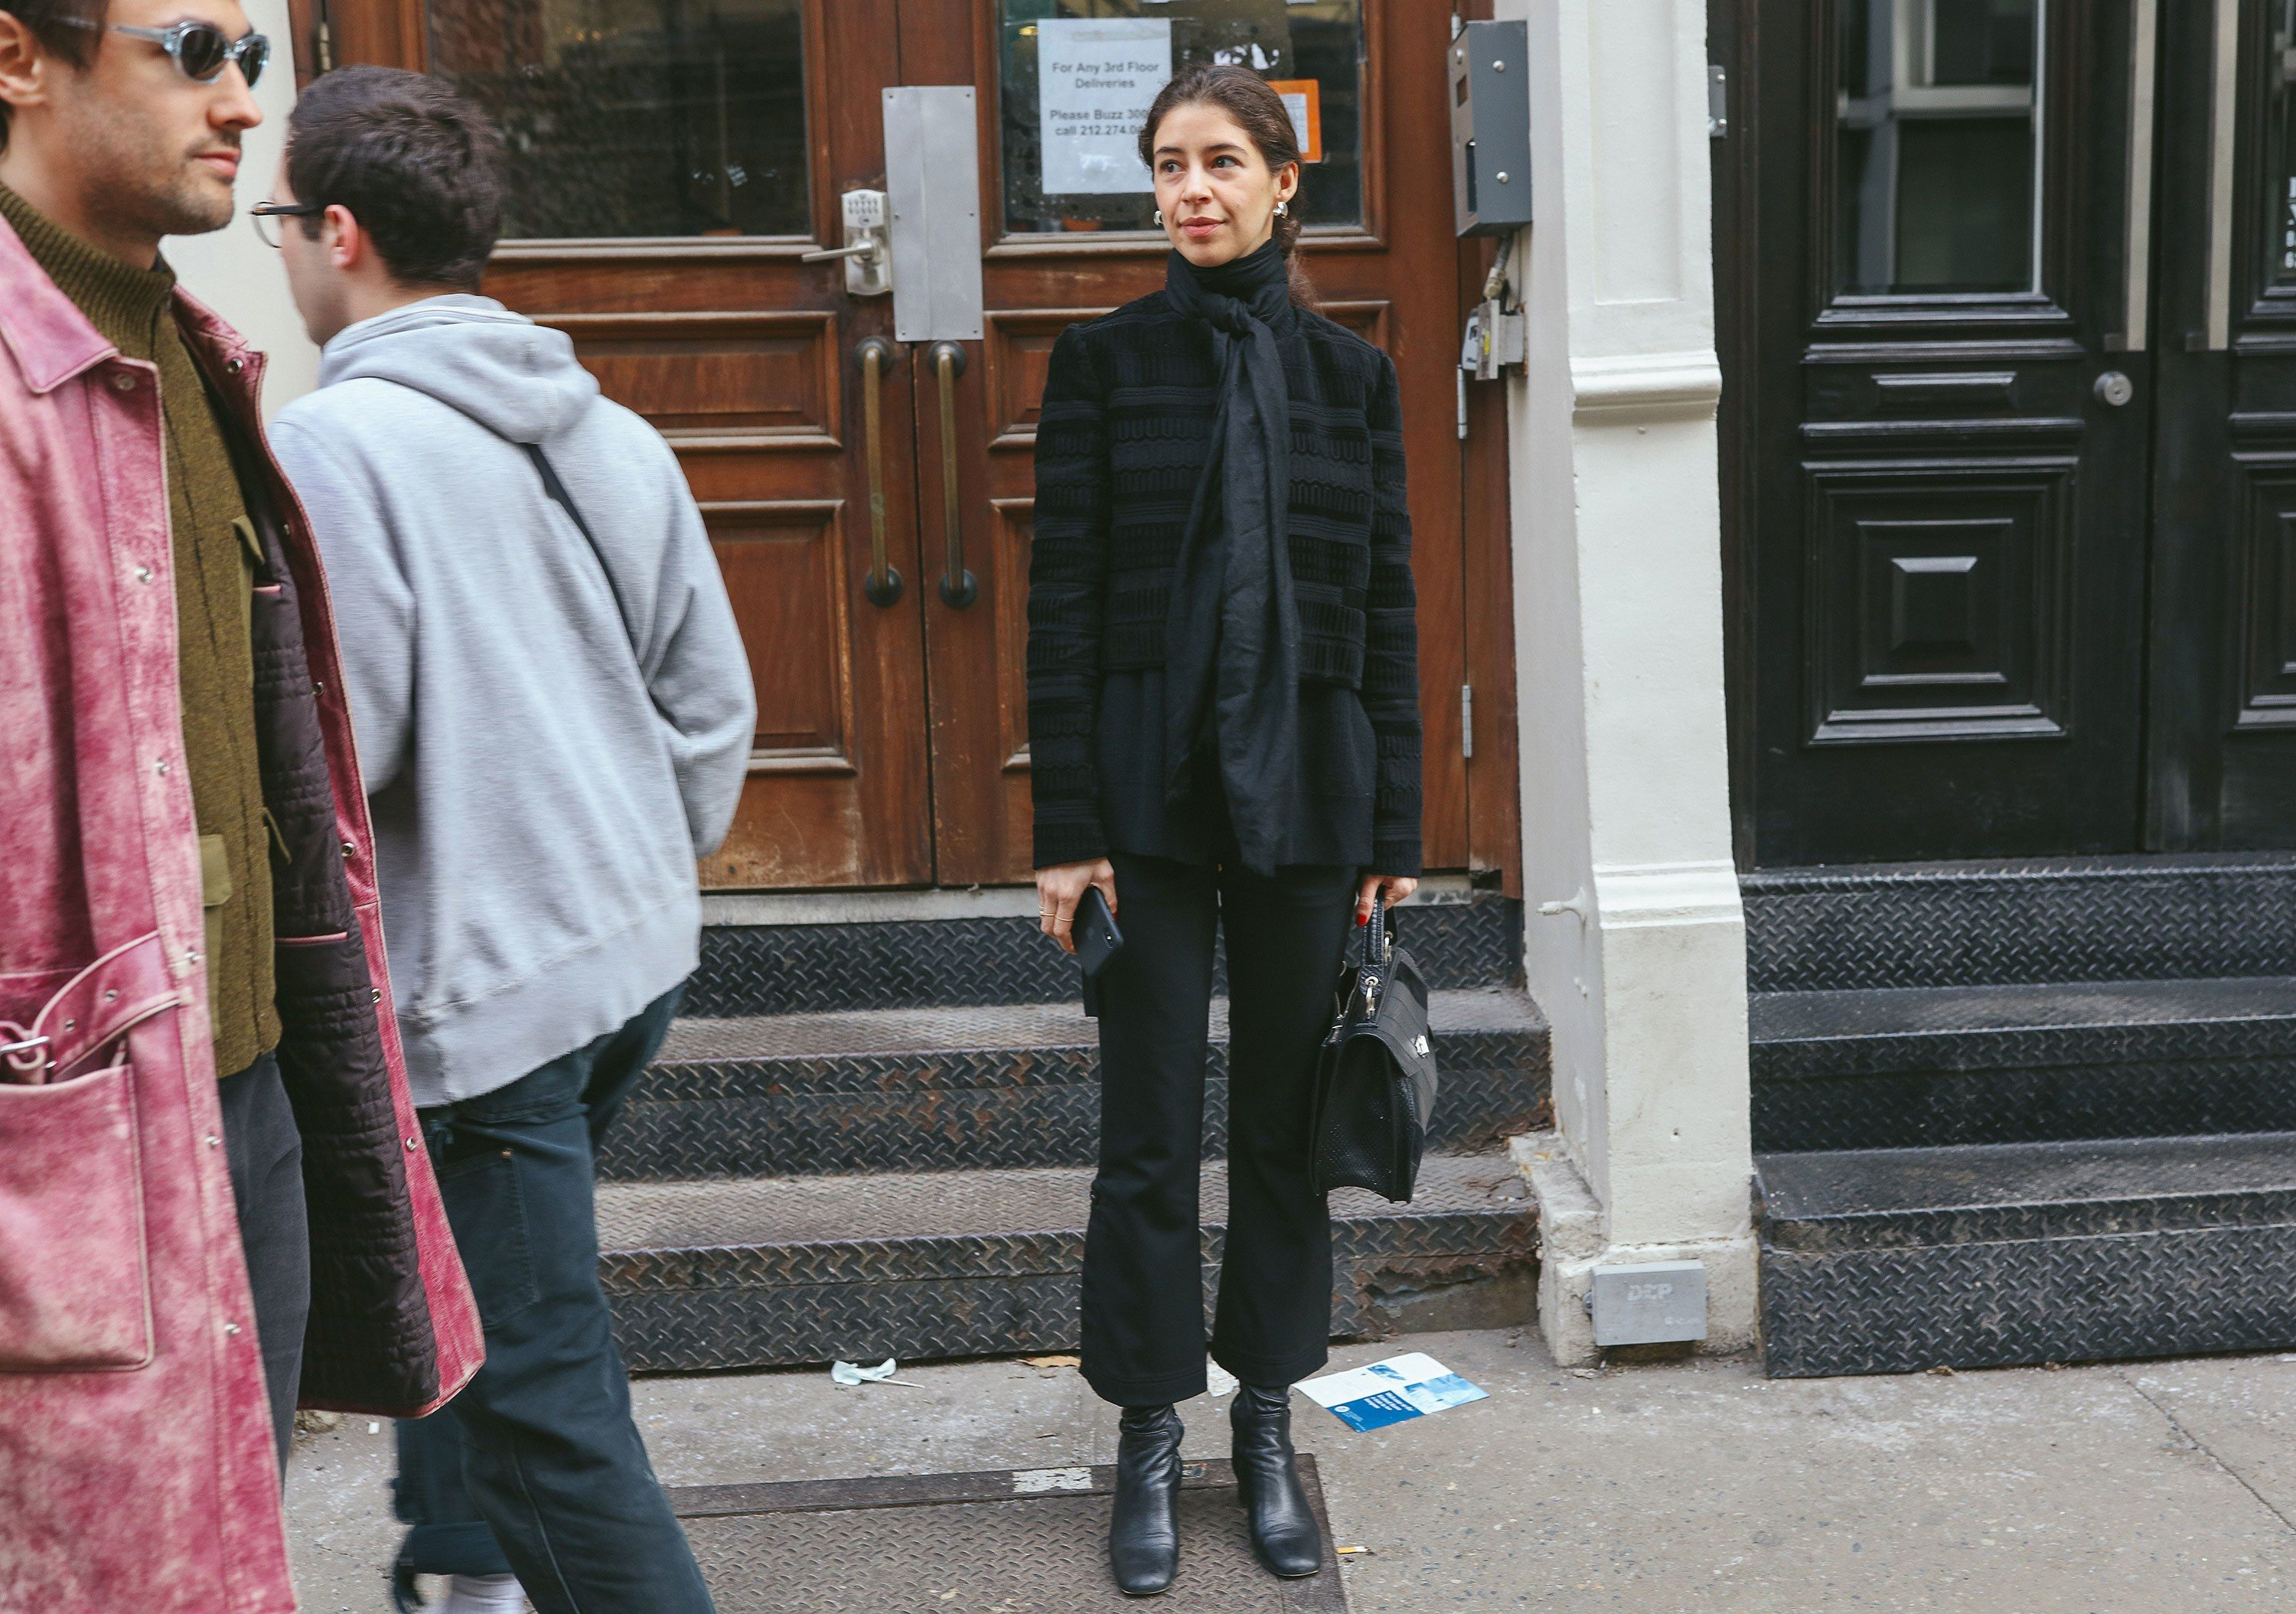Person: (227, 57, 880, 1612), (973, 37, 1533, 1604), (1, 1, 489, 1614)
